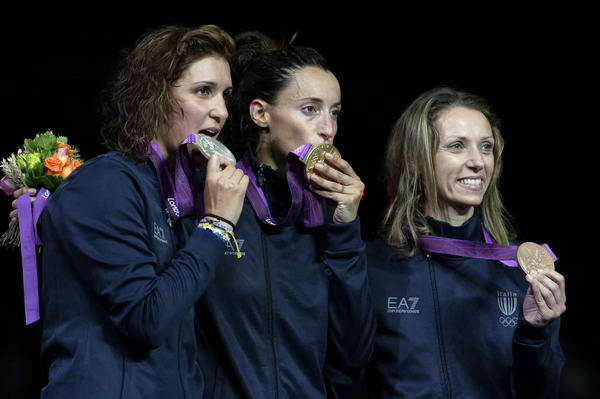face: (170, 54, 233, 155), (276, 76, 341, 160)
face_mask: (435, 108, 494, 206)
